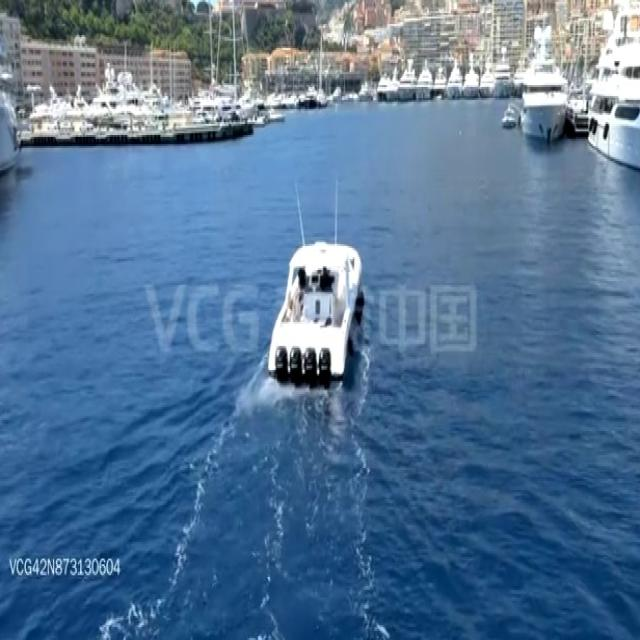houseboat: (270, 234, 364, 380)
